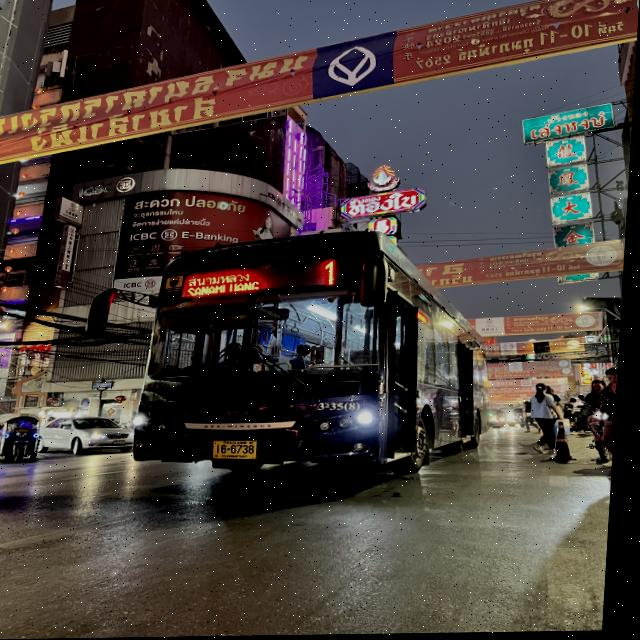Bus-Line-Number: (306, 252, 362, 293)
Destination-Sign-Normal: (181, 268, 268, 294)
TSB-Bus: (135, 230, 499, 482)
